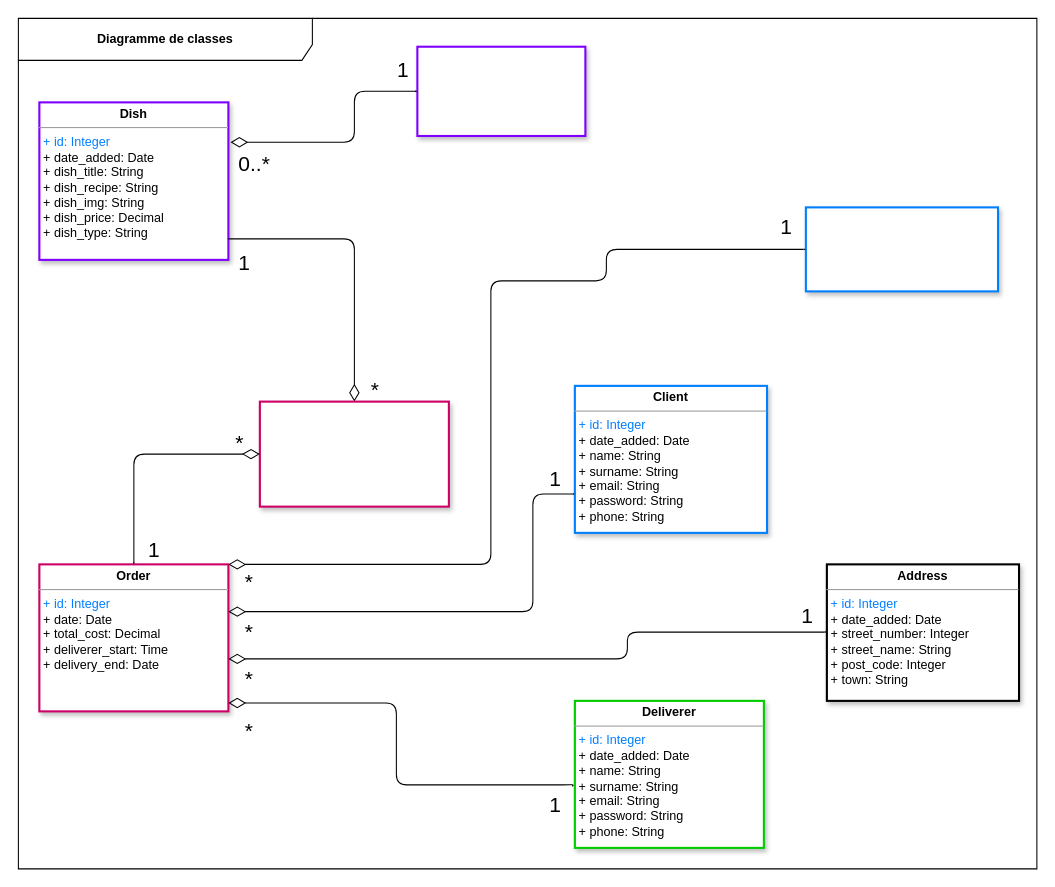
Some shapes in this 1055 by 887 pixel diagram are drawn without their labels. The shapes that lost their labels are listed below. From the top down, each one's centre as x and y in pixels, then its label:
At [502,92]: "Manager + id: Integer + username: String + password: String".
At [902,250]: "Payment + id: Integer + payment_tool: String".
At [355,455]: "Order_detail + id: Integer + price: Decimal + quantity: Integer + title: String".
